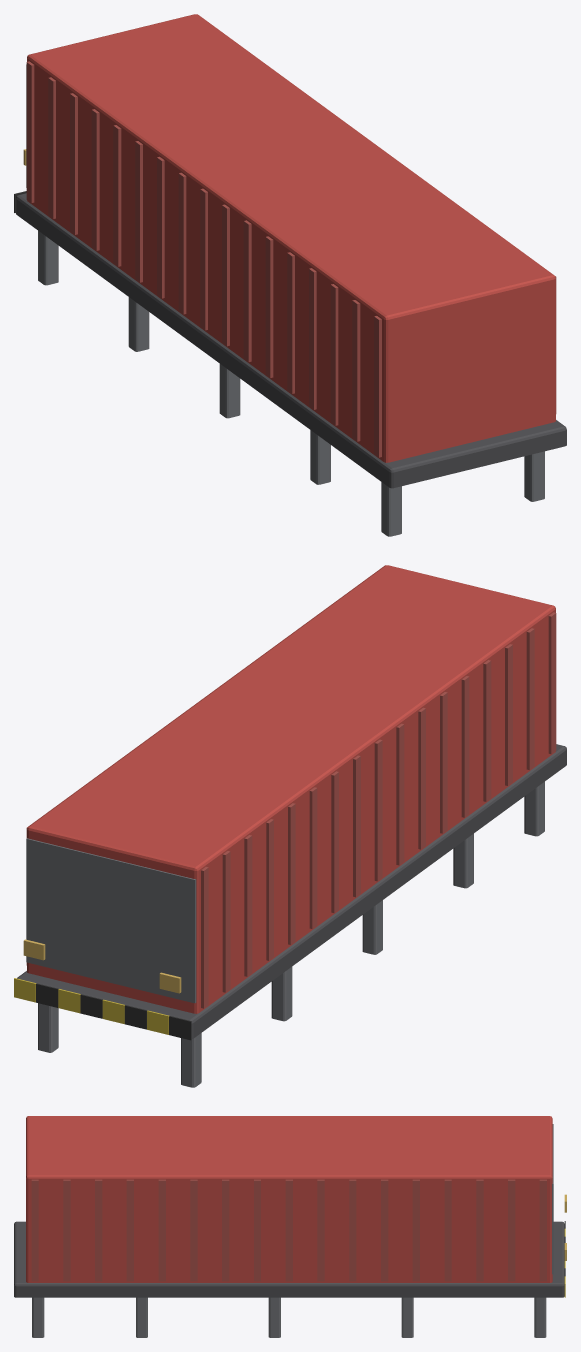
File: rn2-fabrica-truck.glb
3 renders of one model, top to bottom at view 1: azimuth 30°, elevation 25°; view 2: azimuth 150°, elevation 25°; view 3: azimuth 270°, elevation 25°, orthographic. The views are drawn at different scales.
Visible parts, largest first — view 1: rn2_fabrica_truck_body; view 2: rn2_fabrica_truck_body, rn2_fabrica_truck_glow; view 3: rn2_fabrica_truck_body.
Boxes of the visible parts, x1,y1,x2,y2 form: rn2_fabrica_truck_body: [14, 14, 566, 536]; rn2_fabrica_truck_body: [14, 565, 566, 1087]; rn2_fabrica_truck_glow: [23, 939, 181, 993]; rn2_fabrica_truck_body: [14, 1116, 565, 1337].
Size of the model in its own units: 2.48 by 3 by 9.16.
